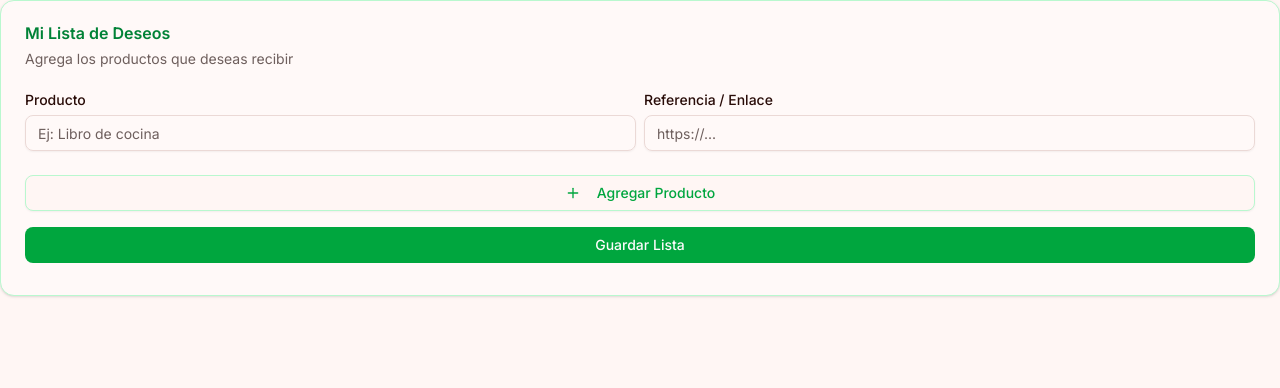
Scenario: WishlistForm Component › debería remover un item
Click the button "Agregar Producto" at (640, 193), box x1=25 y1=175 x2=1255 y2=211
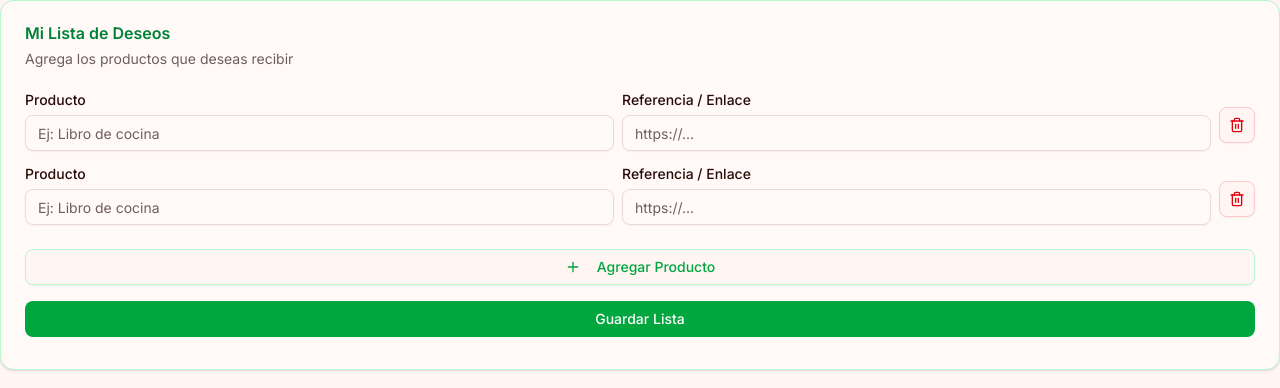
Expected: the 1st button is shown, x1=1219 y1=107 x2=1255 y2=143
